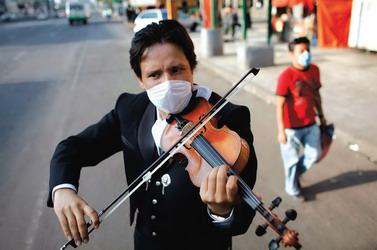OK: (145, 63, 191, 109), (294, 47, 315, 68)
